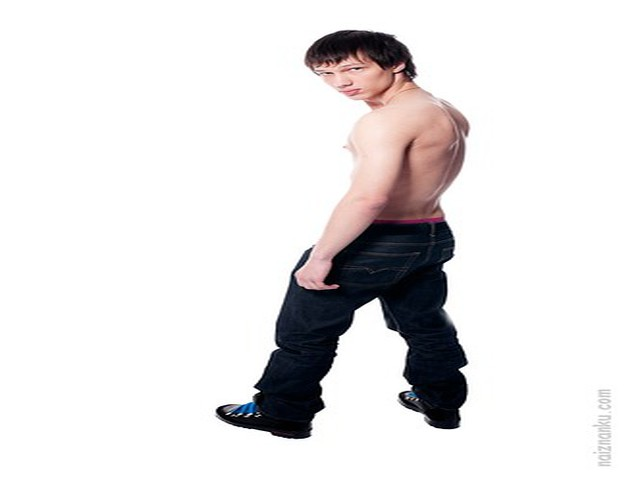Person: (234, 23, 479, 437)
